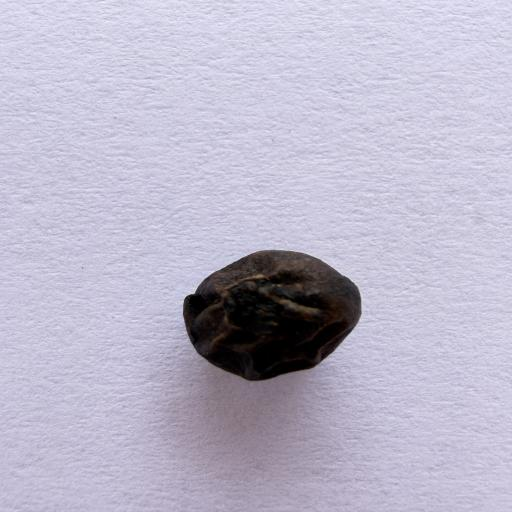Black_pepper: (155, 227, 382, 397)
